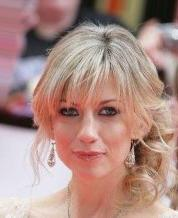face: (59, 102, 120, 161)
